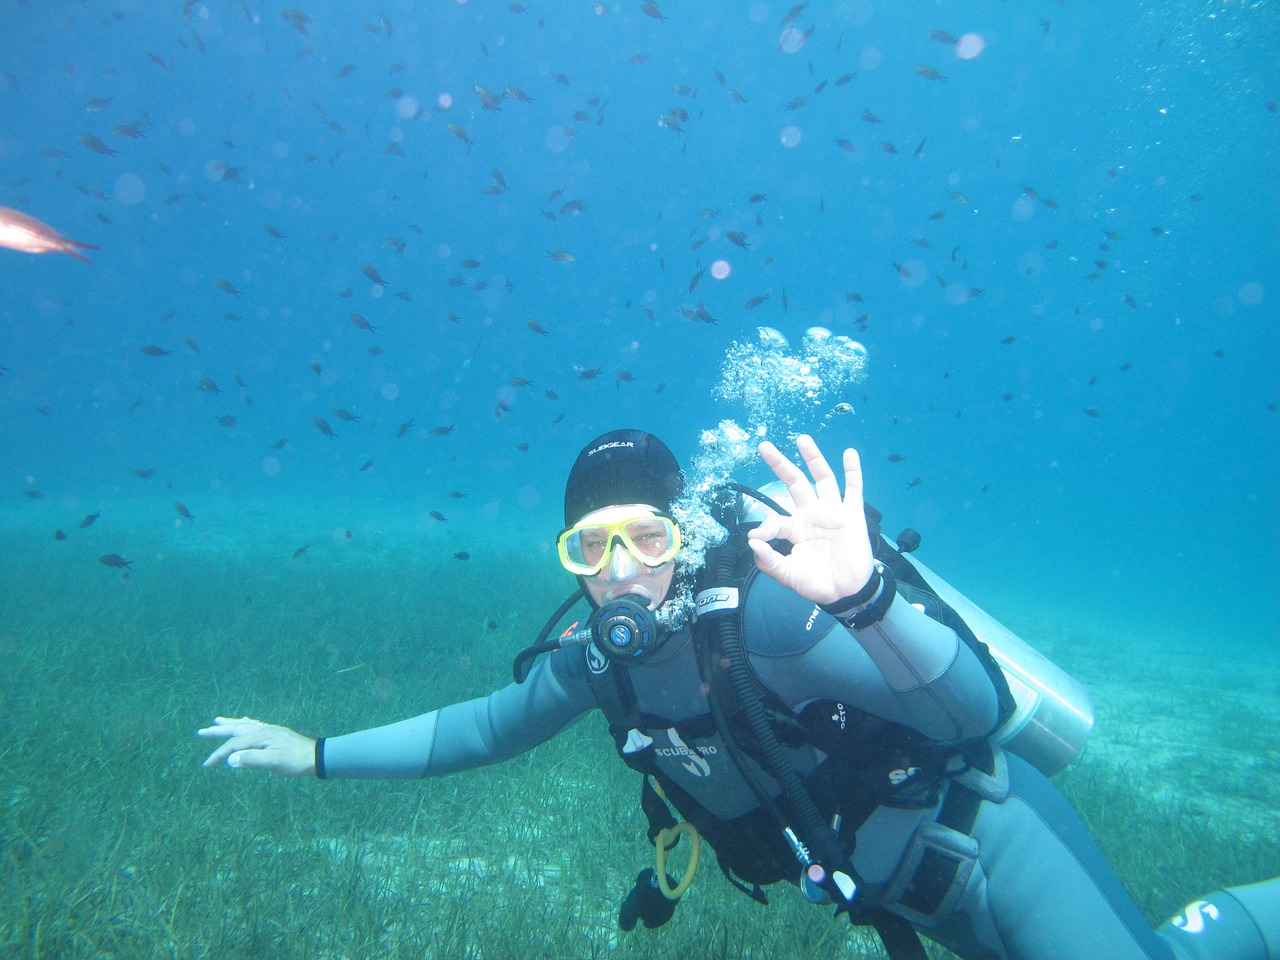oksign: (741, 442, 875, 600)
